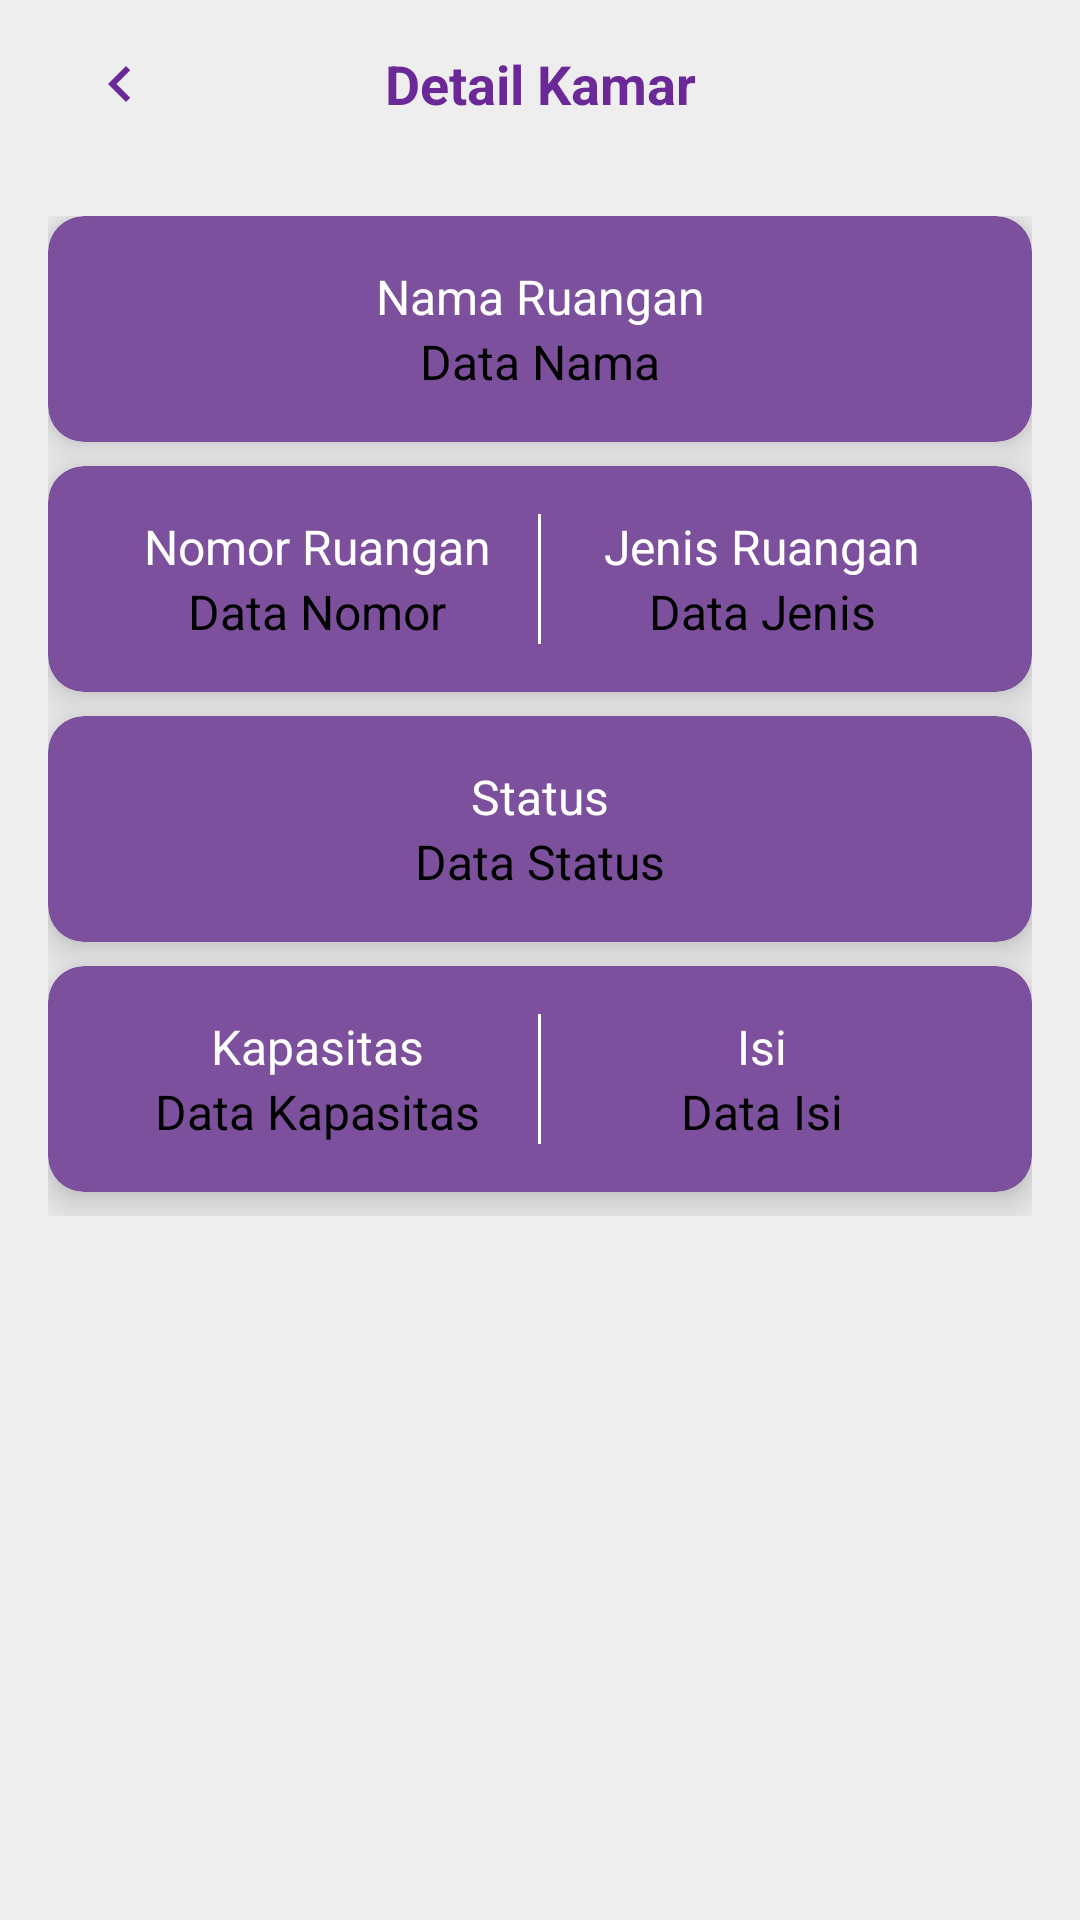

Locate icon controls on the screen. Image size 1080px x 1920px, boxes as [x1,y1,x2,y2].
Back: [108,66,130,102]
